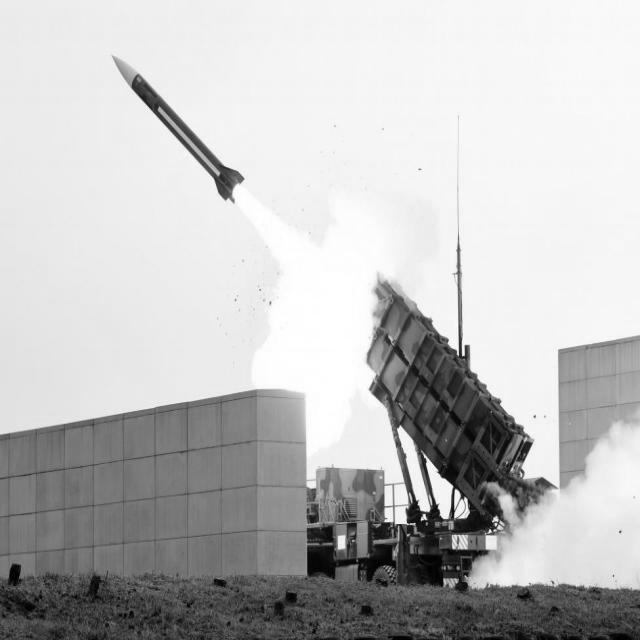missile: (100, 46, 242, 210)
